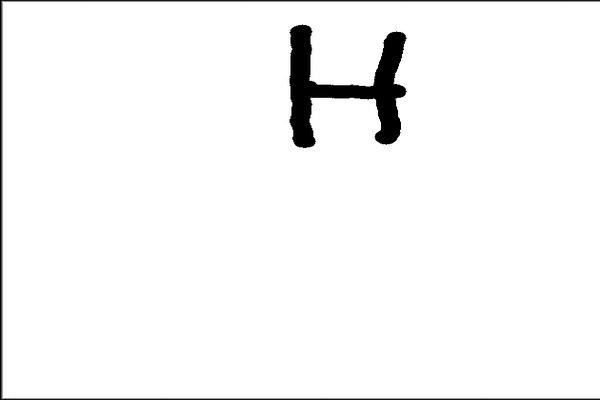H: (279, 17, 417, 152)
